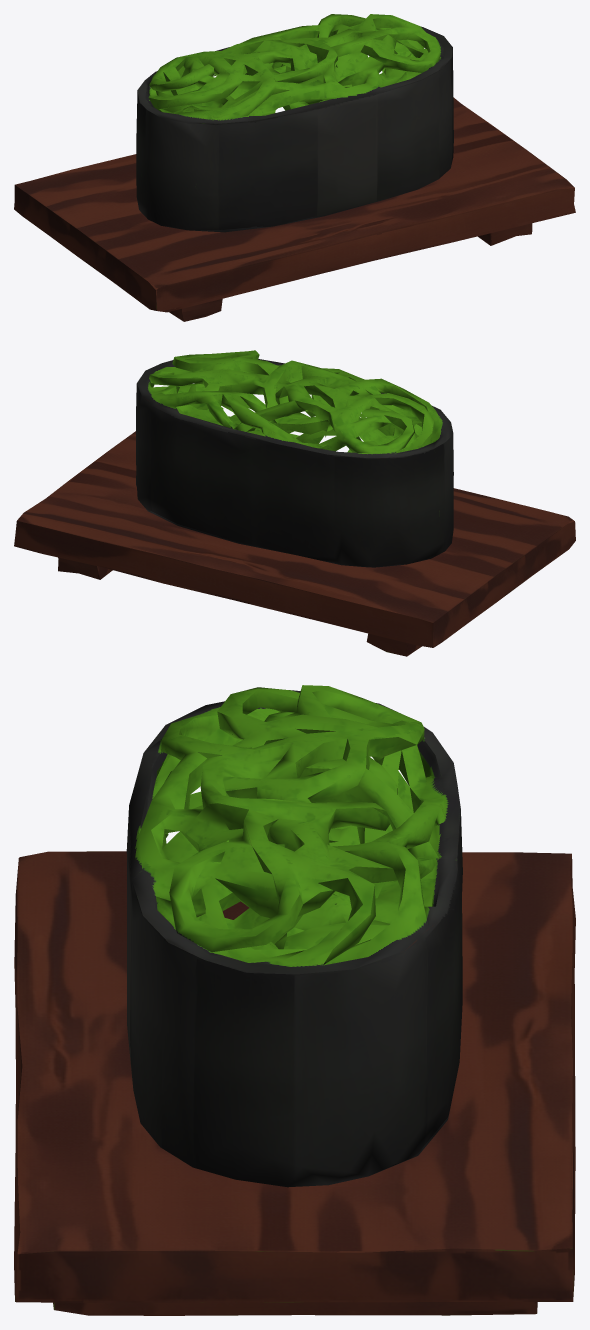
Rendered from gunkan_wakame.glb.
The picture shows the model from 3 angles, top to bottom: view 1: azimuth 30°, elevation 25°; view 2: azimuth 150°, elevation 25°; view 3: azimuth 270°, elevation 25°; orthographic projection. The views are drawn at different scales.
Parts seen in each view (by area): view 1: world; view 2: world; view 3: world.
Boxes of the visible parts, x1,y1,x2,y2 form: world: [14, 14, 575, 321]; world: [14, 350, 575, 656]; world: [14, 685, 575, 1315].
Bounding box in the file's own units: 1 × 0.4333 × 0.5952.
1 material, 1 textured.
